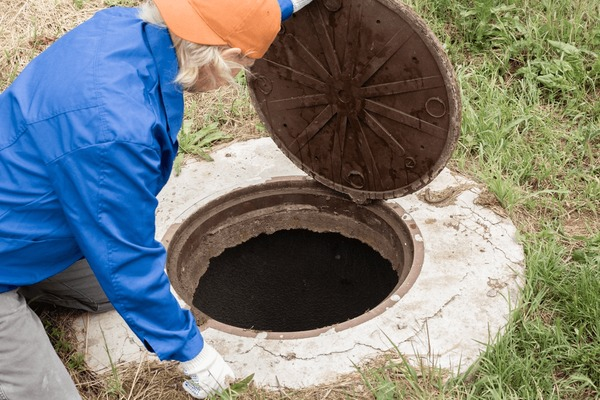open_manhole: (172, 181, 416, 327)
